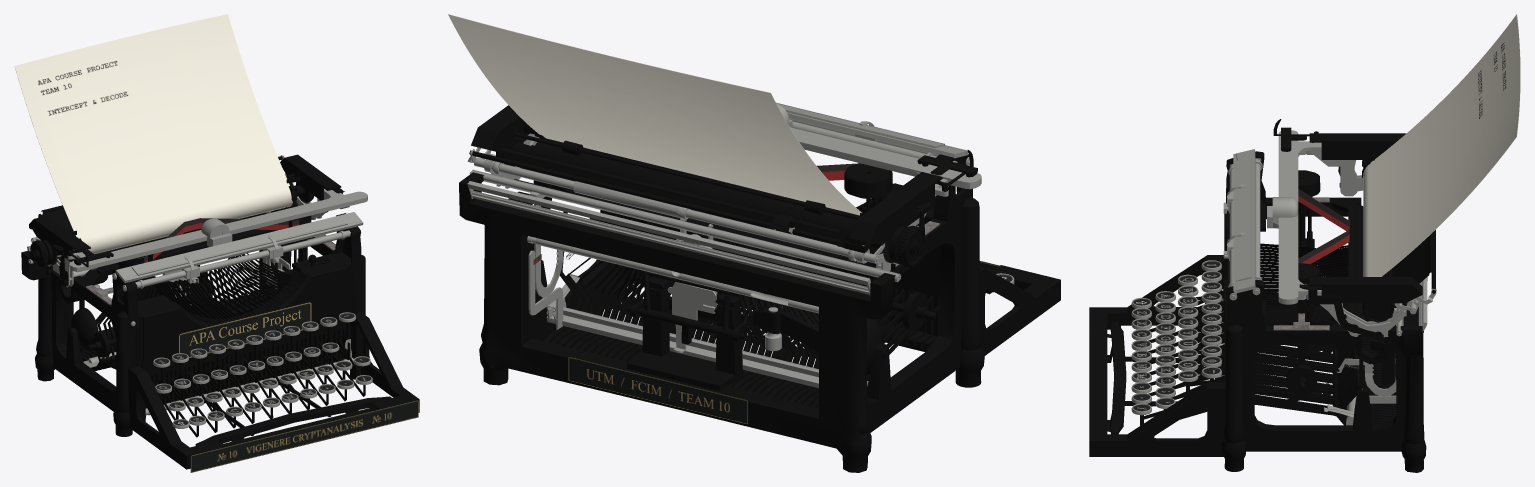
The model's file is apa-no-10.rig.min.glb.
3 views of the same model, side by side, from view 1: azimuth 30°, elevation 25°; view 2: azimuth 150°, elevation 25°; view 3: azimuth 270°, elevation 25° (orthographic). The views are drawn at different scales.
Parts seen in each view (by area): view 1: Paper_sheet, Body_main_5, Rig_Carriage, Body_main2_3, Brand_Front_base_No10, Brand_Front_title, Rig_Spacebar, Body_Material_019_14, Body_material_10_2, Body_innd_15, Body_Material_007_8, Body_material_11_1; view 2: Body_main_5, Rig_Carriage, Paper_sheet, Body_Material_007_8, Body_Material_019_14, Brand_Rear_serial, Body_main2_3, Body_material_10_2, Body_material_11_1; view 3: Body_main_5, Paper_sheet, Rig_Carriage, Body_main2_3, Body_material_10_2, Body_Material_019_14, Body_innd_15, Rig_Spacebar, Body_Material_007_8, Rig_Bar_Key_Quote.
Boxes of the visible parts, x1=… form: Paper_sheet: x1=14, y1=14, x2=292, y2=254; Body_main_5: x1=21, y1=185, x2=365, y2=436; Rig_Carriage: x1=27, y1=154, x2=367, y2=291; Body_main2_3: x1=128, y1=312, x2=419, y2=469; Brand_Front_base_No10: x1=190, y1=400, x2=418, y2=472; Brand_Front_title: x1=178, y1=301, x2=311, y2=358; Rig_Spacebar: x1=195, y1=396, x2=391, y2=445; Body_Material_019_14: x1=79, y1=244, x2=348, y2=371; Body_material_10_2: x1=88, y1=206, x2=311, y2=357; Body_innd_15: x1=86, y1=218, x2=335, y2=304; Body_Material_007_8: x1=73, y1=210, x2=353, y2=415; Body_material_11_1: x1=67, y1=254, x2=316, y2=351; Body_main_5: x1=459, y1=154, x2=985, y2=472; Rig_Carriage: x1=467, y1=102, x2=981, y2=295; Paper_sheet: x1=448, y1=14, x2=861, y2=215; Body_Material_007_8: x1=527, y1=191, x2=868, y2=388; Body_Material_019_14: x1=544, y1=199, x2=871, y2=408; Brand_Rear_serial: x1=568, y1=356, x2=748, y2=424; Body_main2_3: x1=634, y1=265, x2=1060, y2=360; Body_material_10_2: x1=589, y1=163, x2=936, y2=331; Body_material_11_1: x1=867, y1=318, x2=888, y2=374; Body_main_5: x1=1221, y1=151, x2=1426, y2=472; Paper_sheet: x1=1363, y1=14, x2=1520, y2=276; Rig_Carriage: x1=1223, y1=119, x2=1436, y2=340; Body_main2_3: x1=1089, y1=255, x2=1331, y2=456; Body_material_10_2: x1=1286, y1=170, x2=1320, y2=395; Body_Material_019_14: x1=1210, y1=318, x2=1405, y2=425; Body_innd_15: x1=1273, y1=189, x2=1395, y2=363; Rig_Spacebar: x1=1107, y1=321, x2=1126, y2=434; Body_Material_007_8: x1=1218, y1=277, x2=1427, y2=425; Rig_Bar_Key_Quote: x1=1163, y1=306, x2=1332, y2=417.
Size of the model in its own units: 1 by 0.893 by 1.07.
17 materials, 7 textured.
